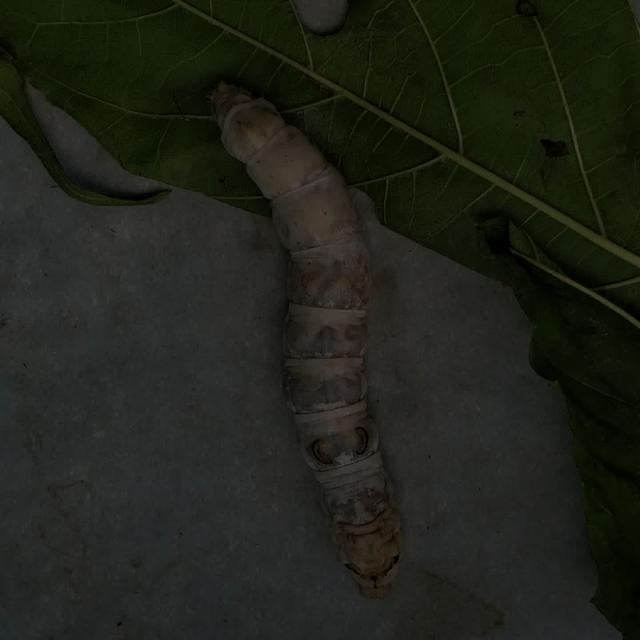Grasserie: (202, 67, 431, 606)
